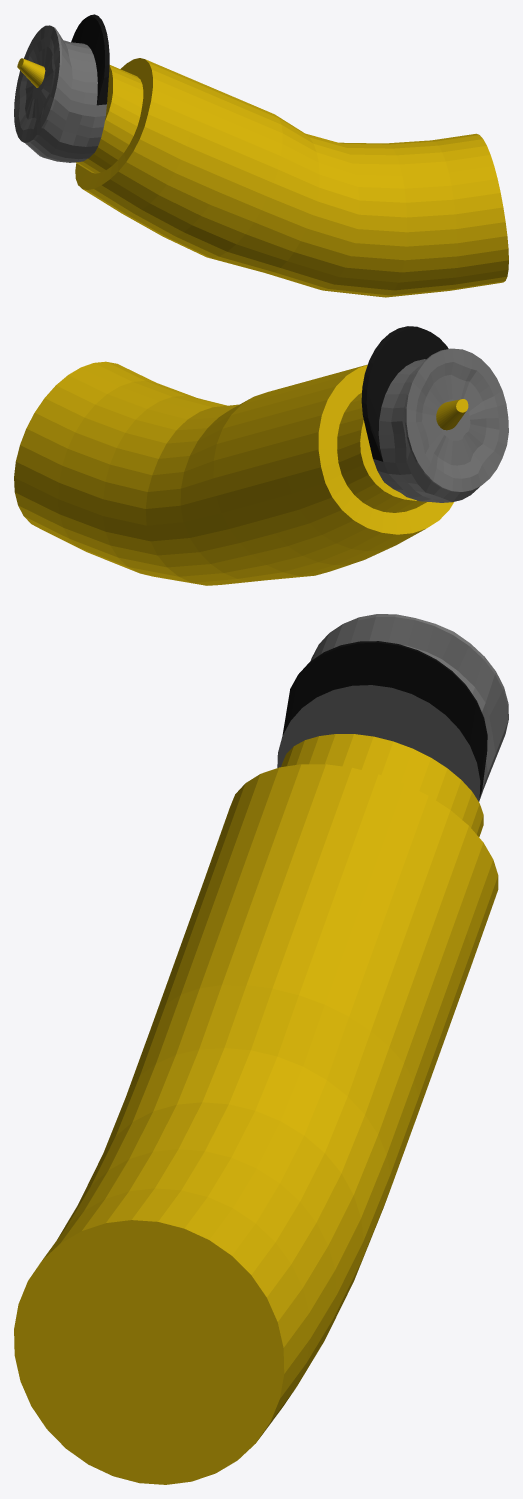
File: MustardBottleDying.fbx
3 renders of one model, top to bottom at view 1: azimuth 30°, elevation 25°; view 2: azimuth 150°, elevation 25°; view 3: azimuth 270°, elevation 25°, orthographic. The views are drawn at different scales.
Visible parts, largest first — view 1: Bottle, Hat; view 2: Bottle, Hat; view 3: Bottle, Hat.
Part boxes in pixels (bbox=[...]): Bottle: bbox=[17, 58, 508, 297]; Hat: bbox=[14, 14, 109, 162]; Bottle: bbox=[14, 361, 468, 585]; Hat: bbox=[361, 326, 508, 502]; Bottle: bbox=[14, 734, 498, 1484]; Hat: bbox=[277, 614, 508, 801].
Bounding box in the file's own units: 643 × 428 × 352.
